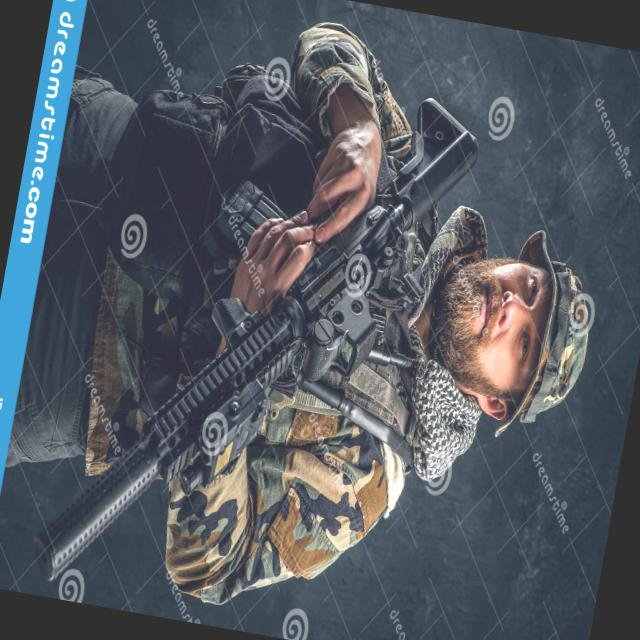long weapon: (36, 36, 521, 595)
